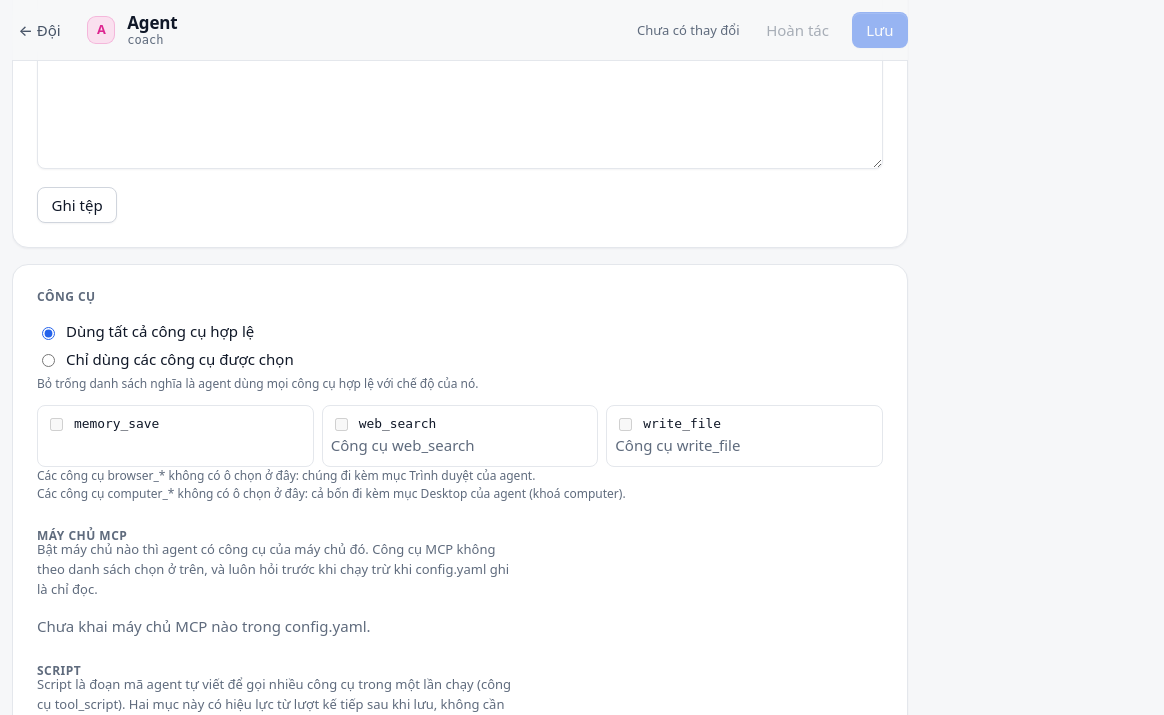
Test: the tool list of an agent that has the desktop › starts a list, by the server's rows, from what the agent holds among them, and writes no desktop tool into it
(page scrolled)
Click the radio button labelled "Chỉ dùng các công cụ được chọn": click(48, 361) [42,354,55,367]
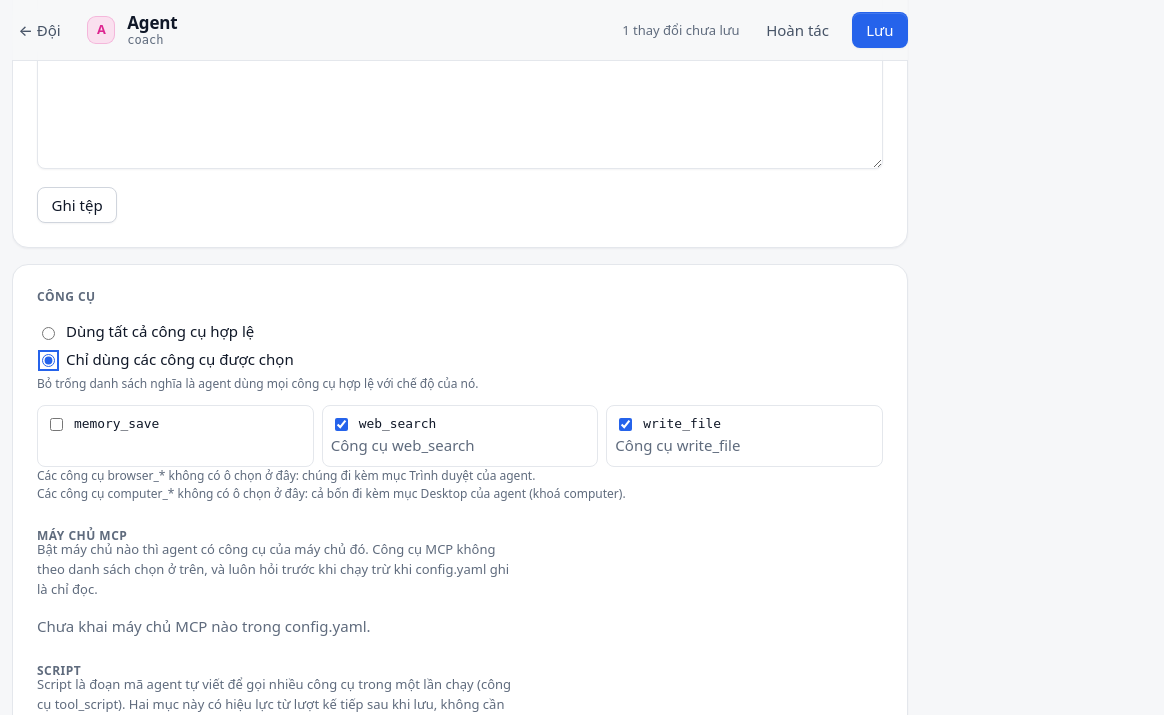
Click the button "Lưu": click(880, 30) [852,12,908,48]
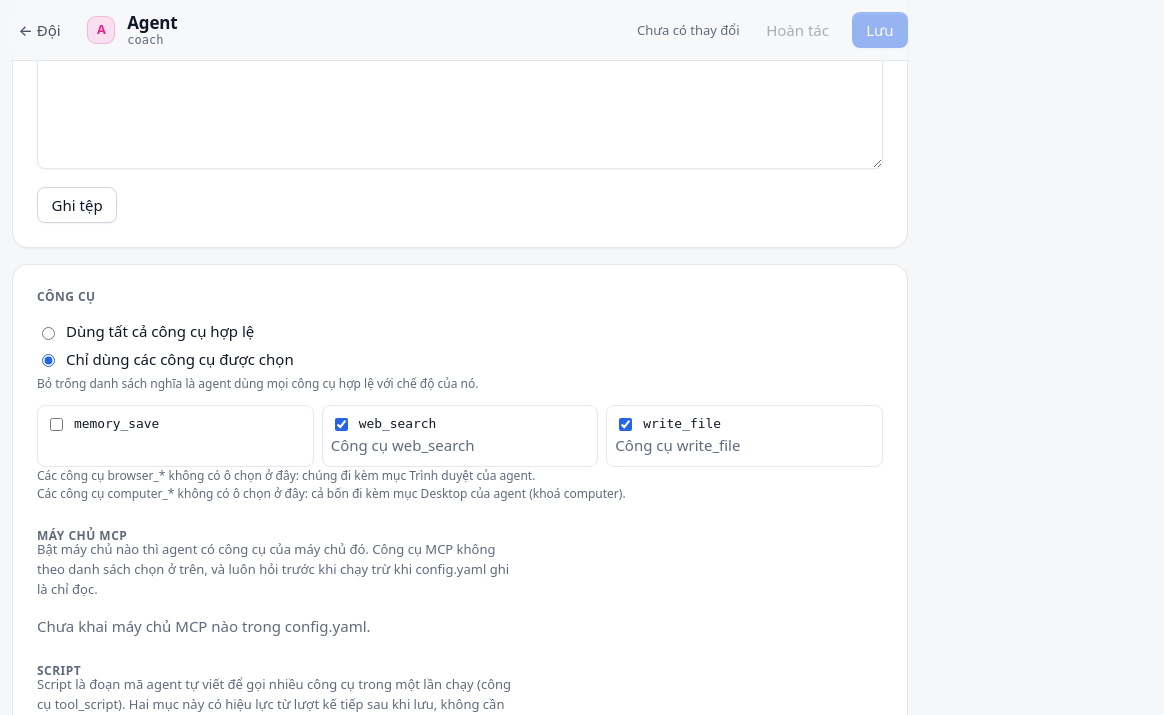
Check: the text "Chưa có thay đổi" is shown, box [637,20,740,40]
